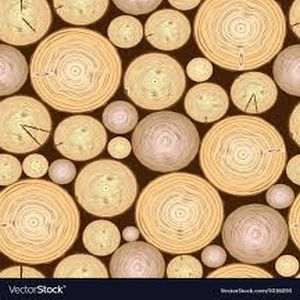log: (28, 25, 122, 113), (198, 112, 285, 197), (137, 173, 224, 254), (1, 179, 81, 266), (191, 1, 287, 72), (220, 201, 290, 264), (132, 111, 201, 172), (121, 49, 186, 110), (73, 158, 137, 216), (1, 95, 50, 156), (49, 114, 108, 162), (107, 240, 167, 281), (1, 1, 54, 42), (184, 80, 231, 125), (229, 71, 279, 113), (143, 8, 191, 49), (272, 43, 300, 98), (1, 43, 29, 98), (102, 99, 140, 139), (50, 254, 110, 279), (82, 218, 121, 256), (107, 14, 144, 48), (166, 254, 205, 280), (49, 155, 80, 186), (265, 182, 294, 211), (22, 153, 50, 180), (1, 153, 22, 187), (188, 57, 215, 83), (107, 135, 135, 160), (201, 244, 228, 268), (274, 253, 300, 276), (123, 224, 139, 243)
